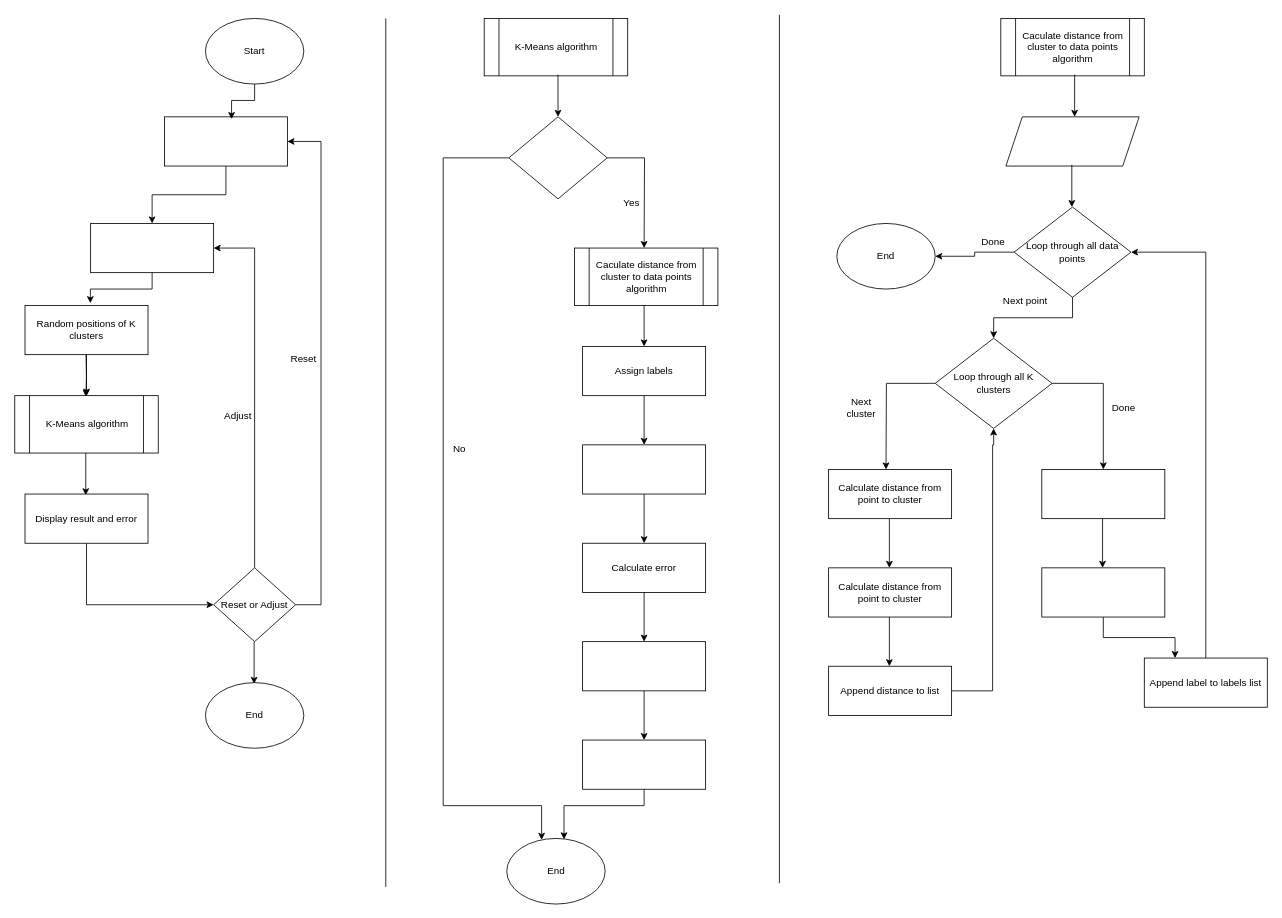
The diagram is 1282 pixels wide and 918 high, and some of its shapes have lost their labels. The shapes that lost their labels are listed below. From the top down, each one's centre as x and y in pixels, then its label:
(x=225, y=141): Create or Load data
(x=557, y=157): Check if cluster empty
(x=1072, y=141): Initialize empty list: distance_to_cluster[] labels[]
(x=152, y=248): Select number of clusters K
(x=644, y=469): Update K cluster positions to Centroid
(x=1103, y=494): Find minimum distance in list
(x=1103, y=592): Assign label based on minimum distance index
(x=644, y=666): Draw clusters
(x=644, y=764): Draw points with colors based on labels
